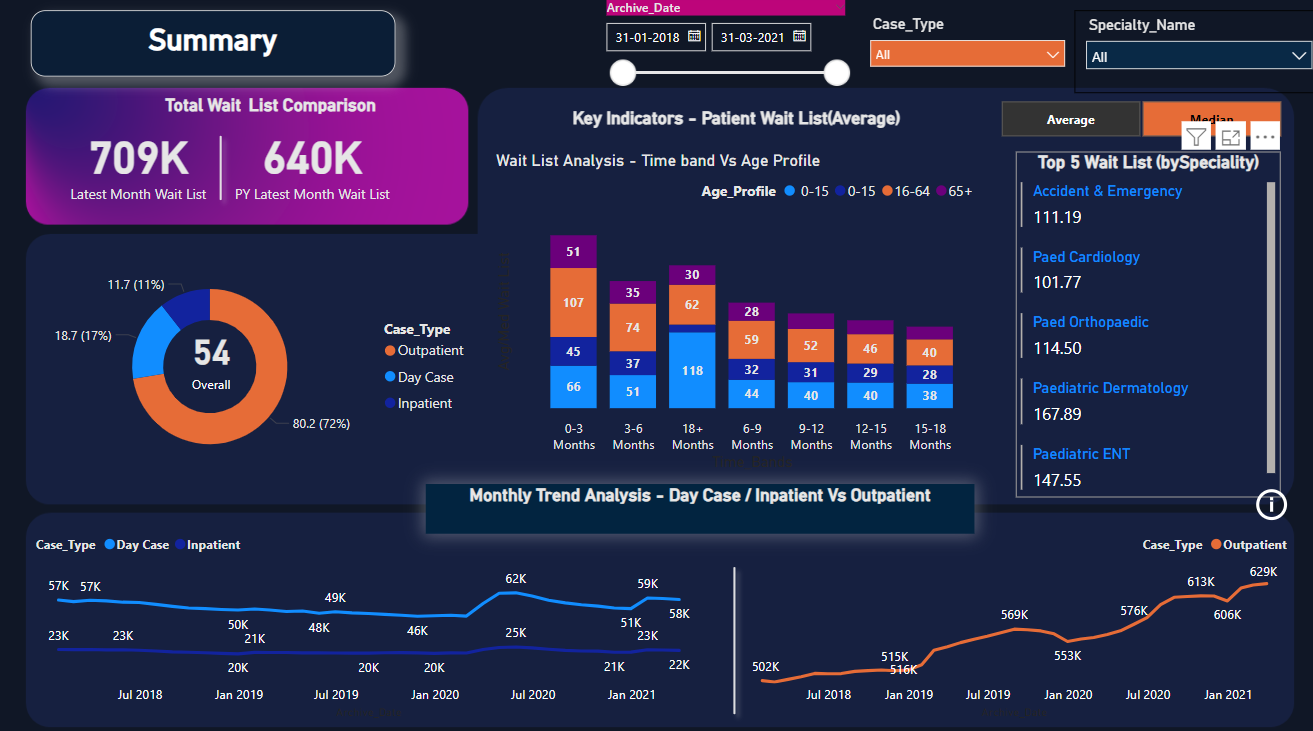

What the dashboard file says about the page in this screenshot:
{"tool":"powerbi","page":{"name":"Summary","canvas":[1280,720],"ordinal":0},"visuals":[{"type":"card","title":"Total Wait","fields":{"Values":["All_Data.Latest Month Wait List"]},"box":[32,96,208,112],"z":0},{"type":"slicer","fields":{"Values":["Calculation Method.Calc Method"]},"box":[944,96,320,48],"z":1000},{"type":"donutChart","fields":{"Category":["All_Data.Case_Type"],"Y":["All_Data.Avg/Med Wait List"]},"box":[32,256,432,208],"z":2000},{"type":"columnChart","title":"Wait List Analysis - Time band Vs Age Profile","fields":{"Series":["All_Data.Age_Profile"],"Category":["All_Data.Time_Bands"],"Y":["All_Data.Avg/Med Wait List"]},"box":[476.5,152,475.3,312.5],"z":3000},{"type":"multiRowCard","title":"Top 5 Wait List (bySpeciality)","fields":{"Values":["All_Data.Specialty_Name","All_Data.Avg/Med Wait List"]},"box":[983.2,152,255.8,334.2],"z":4000},{"type":"card","fields":{"Values":["All_Data.NoDataLeft"]},"box":[97.7,576.7,454.8,143.6],"z":5000},{"type":"lineChart","fields":{"Category":["All_Data.Archive_Date"],"Series":["All_Data.Case_Type"],"Y":["Sum(All_Data.Total)"]},"box":[32.6,511.5,655.1,193],"z":6000},{"type":"card","fields":{"Values":["All_Data.NoDataRight"]},"box":[799.9,548.9,355.9,149.6],"z":7000},{"type":"lineChart","fields":{"Category":["All_Data.Archive_Date"],"Series":["All_Data.Case_Type"],"Y":["Sum(All_Data.Total)"]},"box":[711.8,511.5,542.9,193],"z":8000},{"type":"slicer","fields":{"Values":["All_Data.Archive_Date"]},"box":[576,0,256,96],"z":9000},{"type":"slicer","fields":{"Values":["All_Data.Case_Type"]},"box":[831.9,15.9,208.7,79.7],"z":10000},{"type":"slicer","fields":{"Values":["All_Data.Specialty_Name"]},"box":[1040,16,240,80],"z":11000},{"type":"card","fields":{"Values":["All_Data.Avg/Med Wait List"]},"box":[111,255.8,191.8,191.8],"z":12000},{"type":"shape","box":[128,128,176,80],"z":13000},{"type":"textbox","box":[32,16,352,64],"z":14000},{"type":"textbox","title":"Monthly Trend Analysis - Day Case / Inpatient Vs Outpatient","box":[413.8,472.9,529.6,48.3],"z":15000},{"type":"shape","box":[624,544,176,160],"z":16000},{"type":"card","fields":{"Values":["All_Data.Dynamic Title"]},"box":[501.9,89.3,423.5,62.7],"z":17000},{"type":"card","title":"List Comparison","fields":{"Values":["All_Data.PY Latest Month Wait List"]},"box":[224,96,160,112],"z":18000},{"type":"actionButton","box":[1179.9,472.9,100.1,39.8],"z":19000}]}

Visuals, with their boxes in screenshot pixels (x1, y1, x2, y2), scaled from the page's 1280x720 canvas onto the 1313x731 screenshot:
"Total Wait" card: x1=33, y1=97, x2=246, y2=211
slicer - Calculation Method.Calc Method: x1=968, y1=97, x2=1297, y2=146
donutChart - All_Data.Case_Type x All_Data.Avg/Med Wait List: x1=33, y1=260, x2=476, y2=471
"Wait List Analysis - Time band Vs Age Profile" columnChart: x1=489, y1=154, x2=976, y2=472
"Top 5 Wait List (bySpeciality)" multiRowCard: x1=1009, y1=154, x2=1271, y2=494
card - All_Data.NoDataLeft: x1=100, y1=586, x2=567, y2=730
lineChart - All_Data.Archive_Date x All_Data.Case_Type: x1=33, y1=519, x2=705, y2=715
card - All_Data.NoDataRight: x1=821, y1=557, x2=1186, y2=709
lineChart - All_Data.Archive_Date x All_Data.Case_Type: x1=730, y1=519, x2=1287, y2=715
slicer - All_Data.Archive_Date: x1=591, y1=0, x2=853, y2=97
slicer - All_Data.Case_Type: x1=853, y1=16, x2=1067, y2=97
slicer - All_Data.Specialty_Name: x1=1067, y1=16, x2=1312, y2=97
card - All_Data.Avg/Med Wait List: x1=114, y1=260, x2=311, y2=454
shape: x1=131, y1=130, x2=312, y2=211
textbox: x1=33, y1=16, x2=394, y2=81
"Monthly Trend Analysis - Day Case / Inpatient Vs Outpatient" textbox: x1=424, y1=480, x2=968, y2=529
shape: x1=640, y1=552, x2=821, y2=715
card - All_Data.Dynamic Title: x1=515, y1=91, x2=949, y2=154
"List Comparison" card: x1=230, y1=97, x2=394, y2=211
actionButton: x1=1210, y1=480, x2=1312, y2=521
